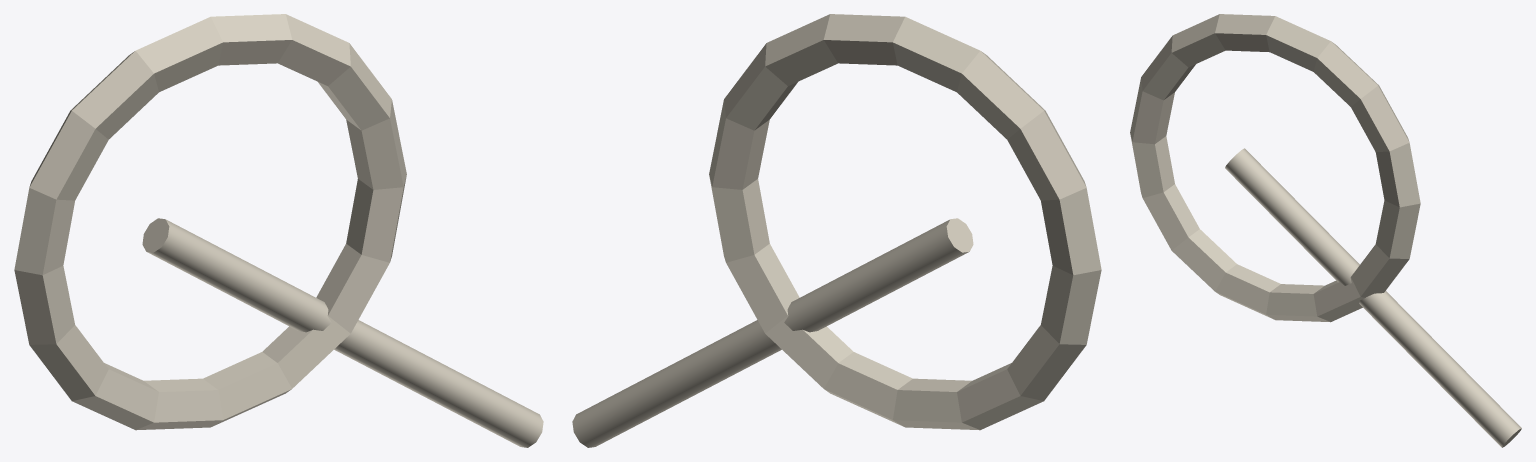
The model's file is magnify.glb.
The picture shows the model from 3 angles, left to right: view 1: azimuth 30°, elevation 25°; view 2: azimuth 150°, elevation 25°; view 3: azimuth 330°, elevation 25°; orthographic projection. The views are drawn at different scales.
Visible parts, largest first — view 1: magnify; view 2: magnify; view 3: magnify.
Part boxes in pixels (<box>): magnify: <box>14,14,543,447</box>; magnify: <box>572,14,1101,447</box>; magnify: <box>1130,14,1521,447</box>.
Size of the model in its own units: 0.259 by 0.2383 by 0.0214.
